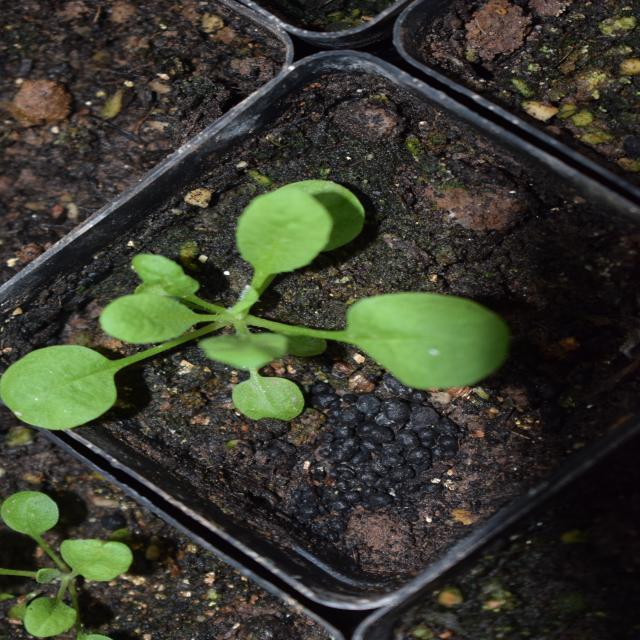Shepherd_Purse: (215, 12, 456, 494), (0, 0, 152, 119)
